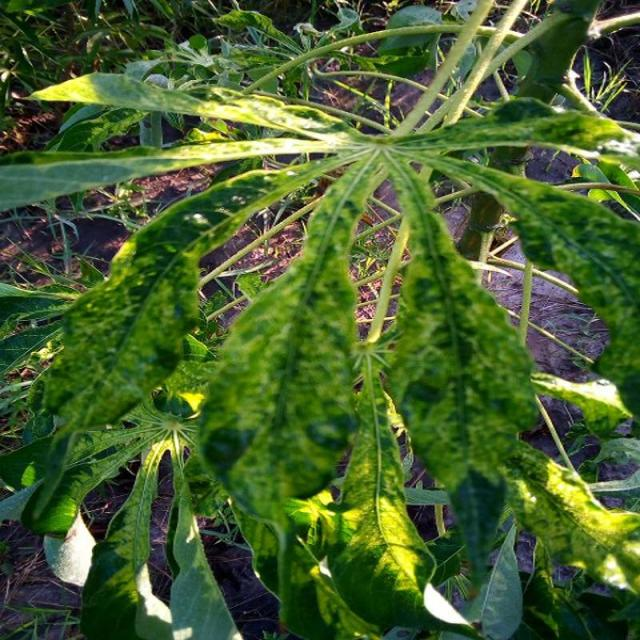Mosaico: (58, 67, 640, 449), (49, 394, 405, 640)
